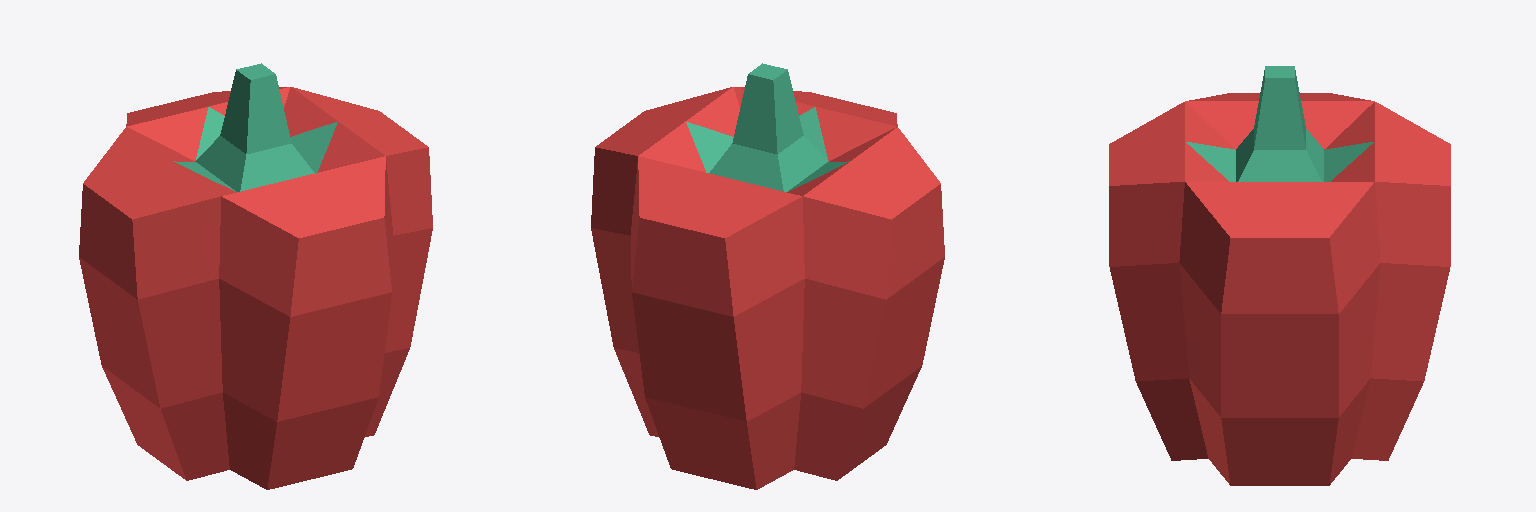
Rendered from paprika.obj.
The picture shows the model from 3 angles: view 1: azimuth 30°, elevation 25°; view 2: azimuth 150°, elevation 25°; view 3: azimuth 270°, elevation 25°; orthographic projection.
Visible parts, largest first — view 1: paprika; view 2: paprika; view 3: paprika.
Boxes of the visible parts, x1,y1,x2,y2 form: paprika: [79, 63, 432, 489]; paprika: [591, 63, 944, 489]; paprika: [1109, 66, 1450, 485].
Size of the model in its own units: 0.1681 by 0.1993 by 0.1681.